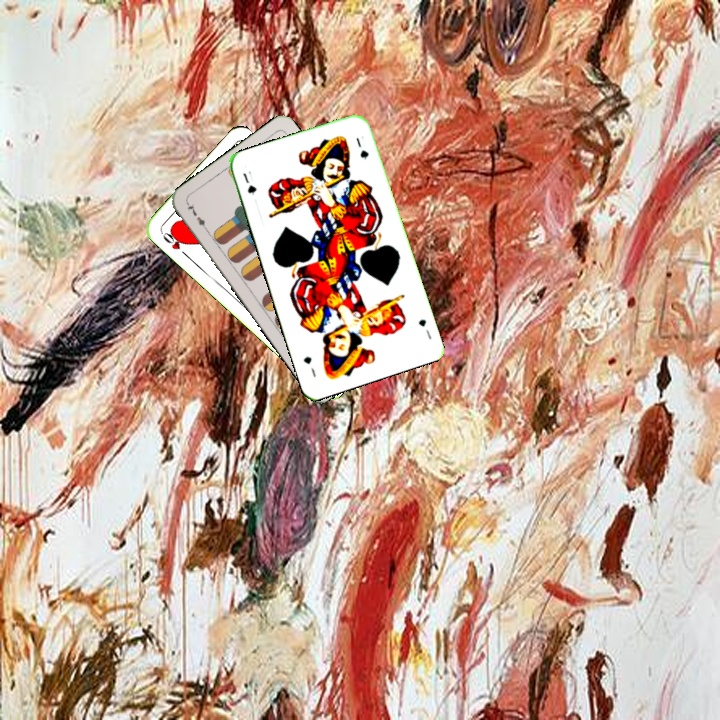E7: (183, 199, 211, 235)
GU: (239, 166, 259, 197), (414, 315, 434, 342)
HO: (157, 226, 191, 259)
